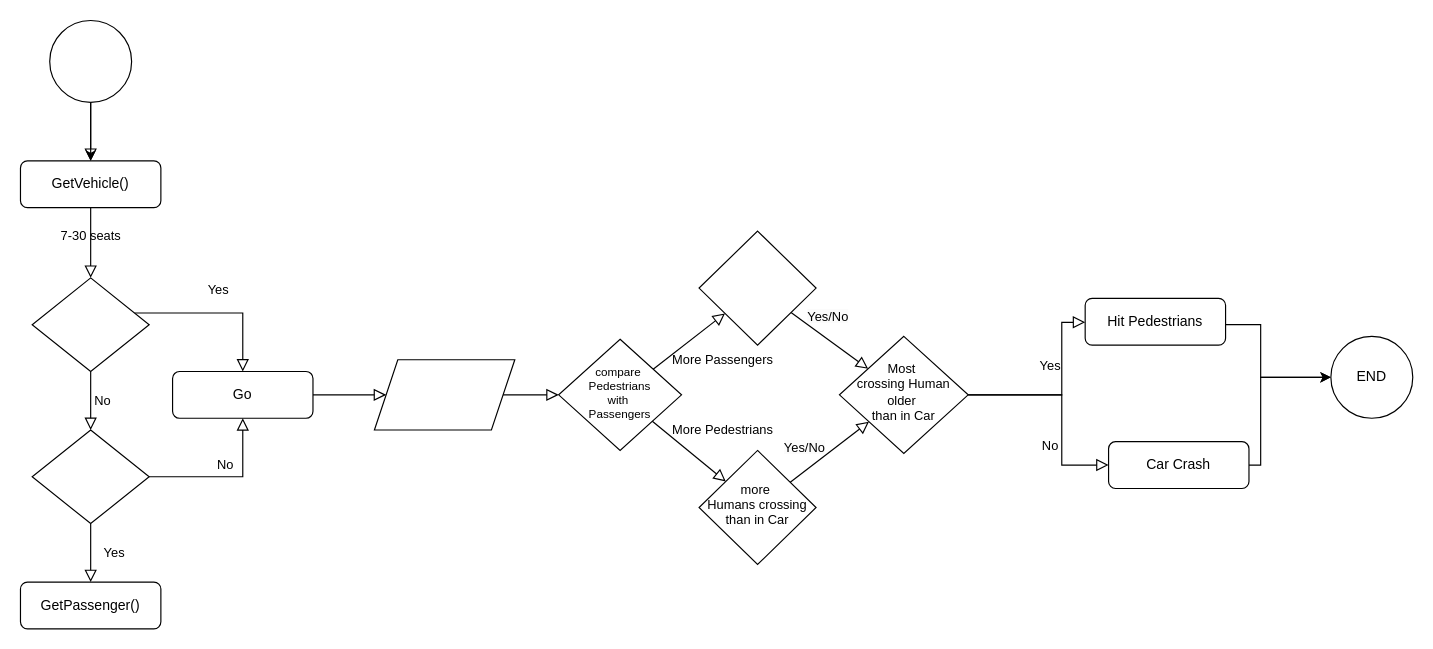
The diagram is 1433 pixels wide and 649 high, and some of its shapes have lost their labels. The shapes that lost their labels are listed below. From the top down, each one's centre as x and y in pixels, then its label:
At (90,60): "START".
At (757,287): "more Humans in Car than crossing".
At (90,324): "isCarReady?".
At (444,394): "Encounter Crossing Pedestrians".
At (90,476): "Are Seats Empty ?".
